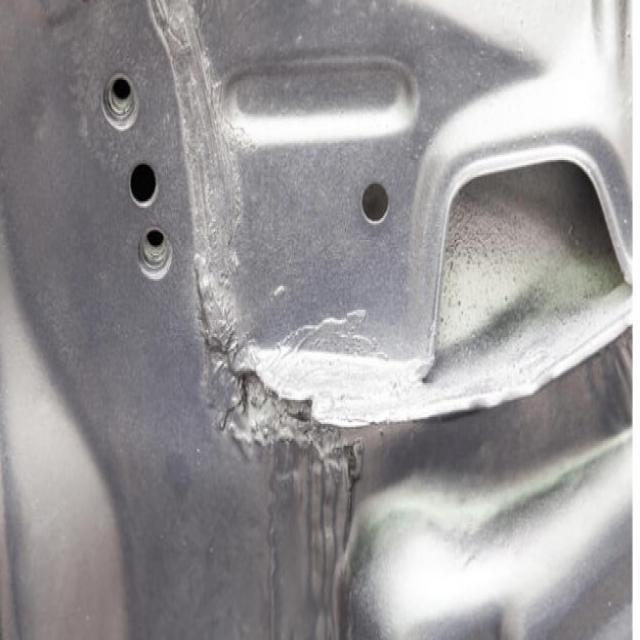Bad Weld: (195, 304, 358, 483)
